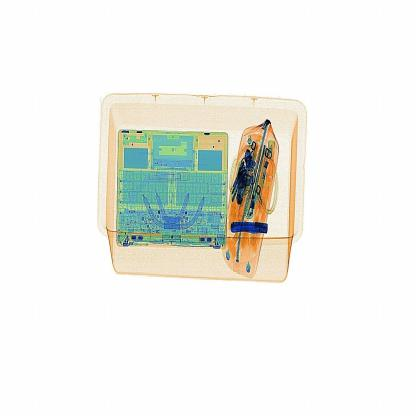knife: (228, 212, 275, 240)
